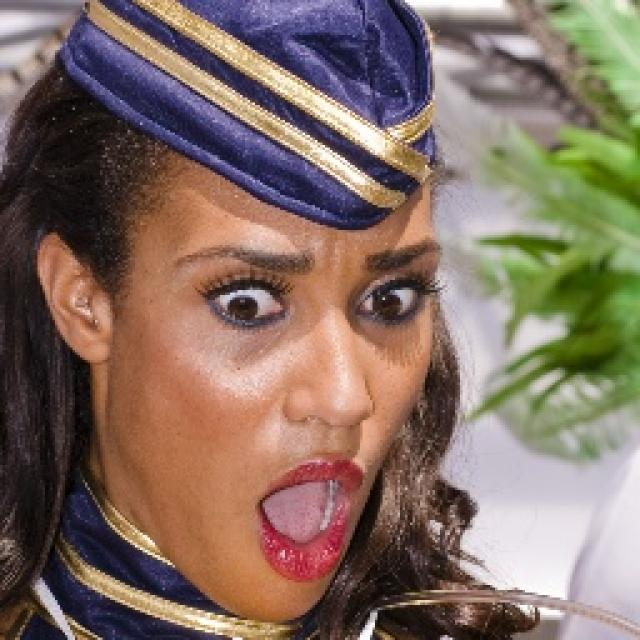earlobe: (38, 233, 113, 365)
